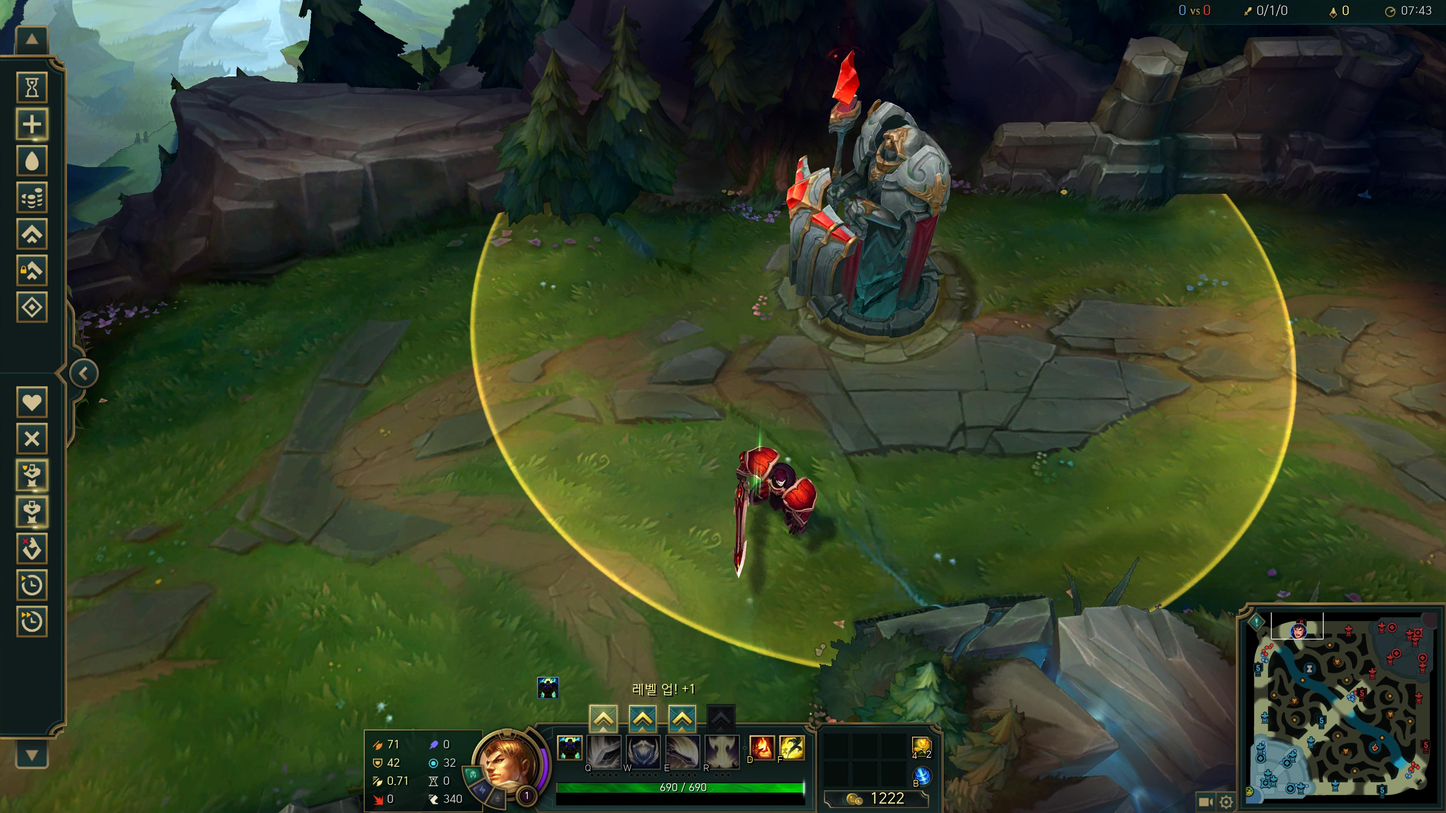enemy-tower: (765, 50, 973, 360)
